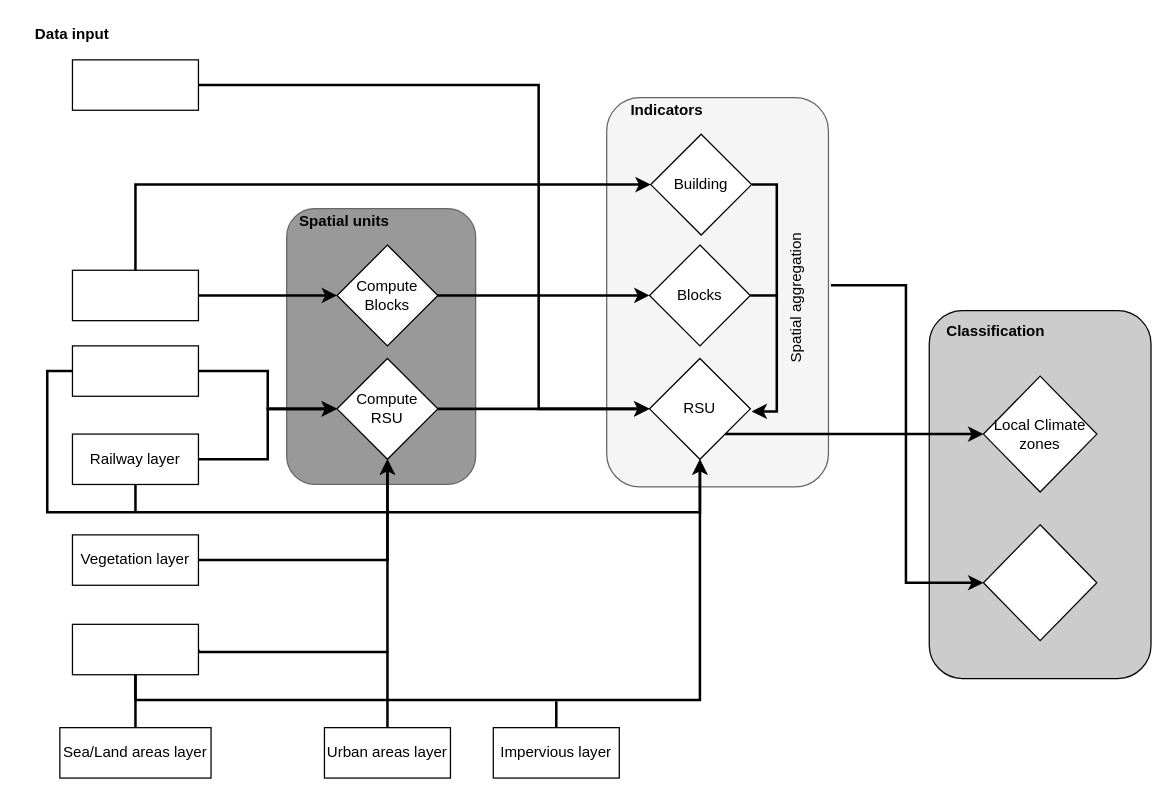
Some shapes in this 1173 by 800 pixel diagram are drawn without their labels. Here are the shapes that lost their labels. From the top down, the box of each, then its label:
(71, 59, 198, 110): Zone layer
(71, 269, 198, 321): Building layer
(71, 345, 198, 396): Road layer
(982, 524, 1097, 641): Urban typologies
(71, 623, 198, 675): Water layer
